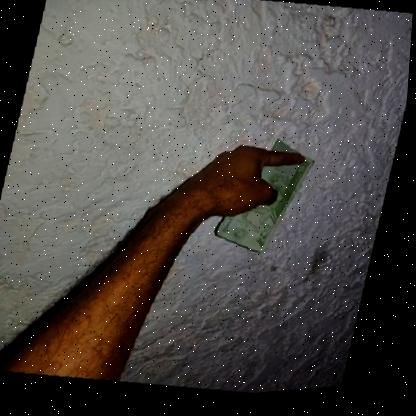fifty-back-vef: (215, 136, 322, 266)
